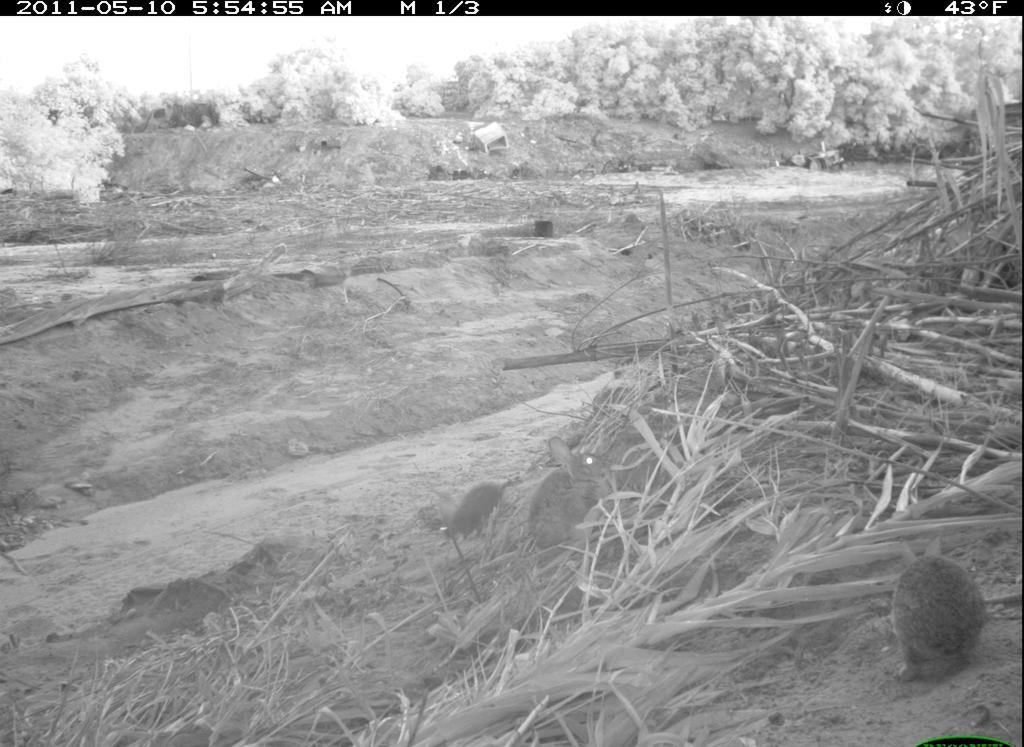rabbit: (893, 553, 991, 690), (524, 434, 615, 545), (423, 483, 509, 547)
